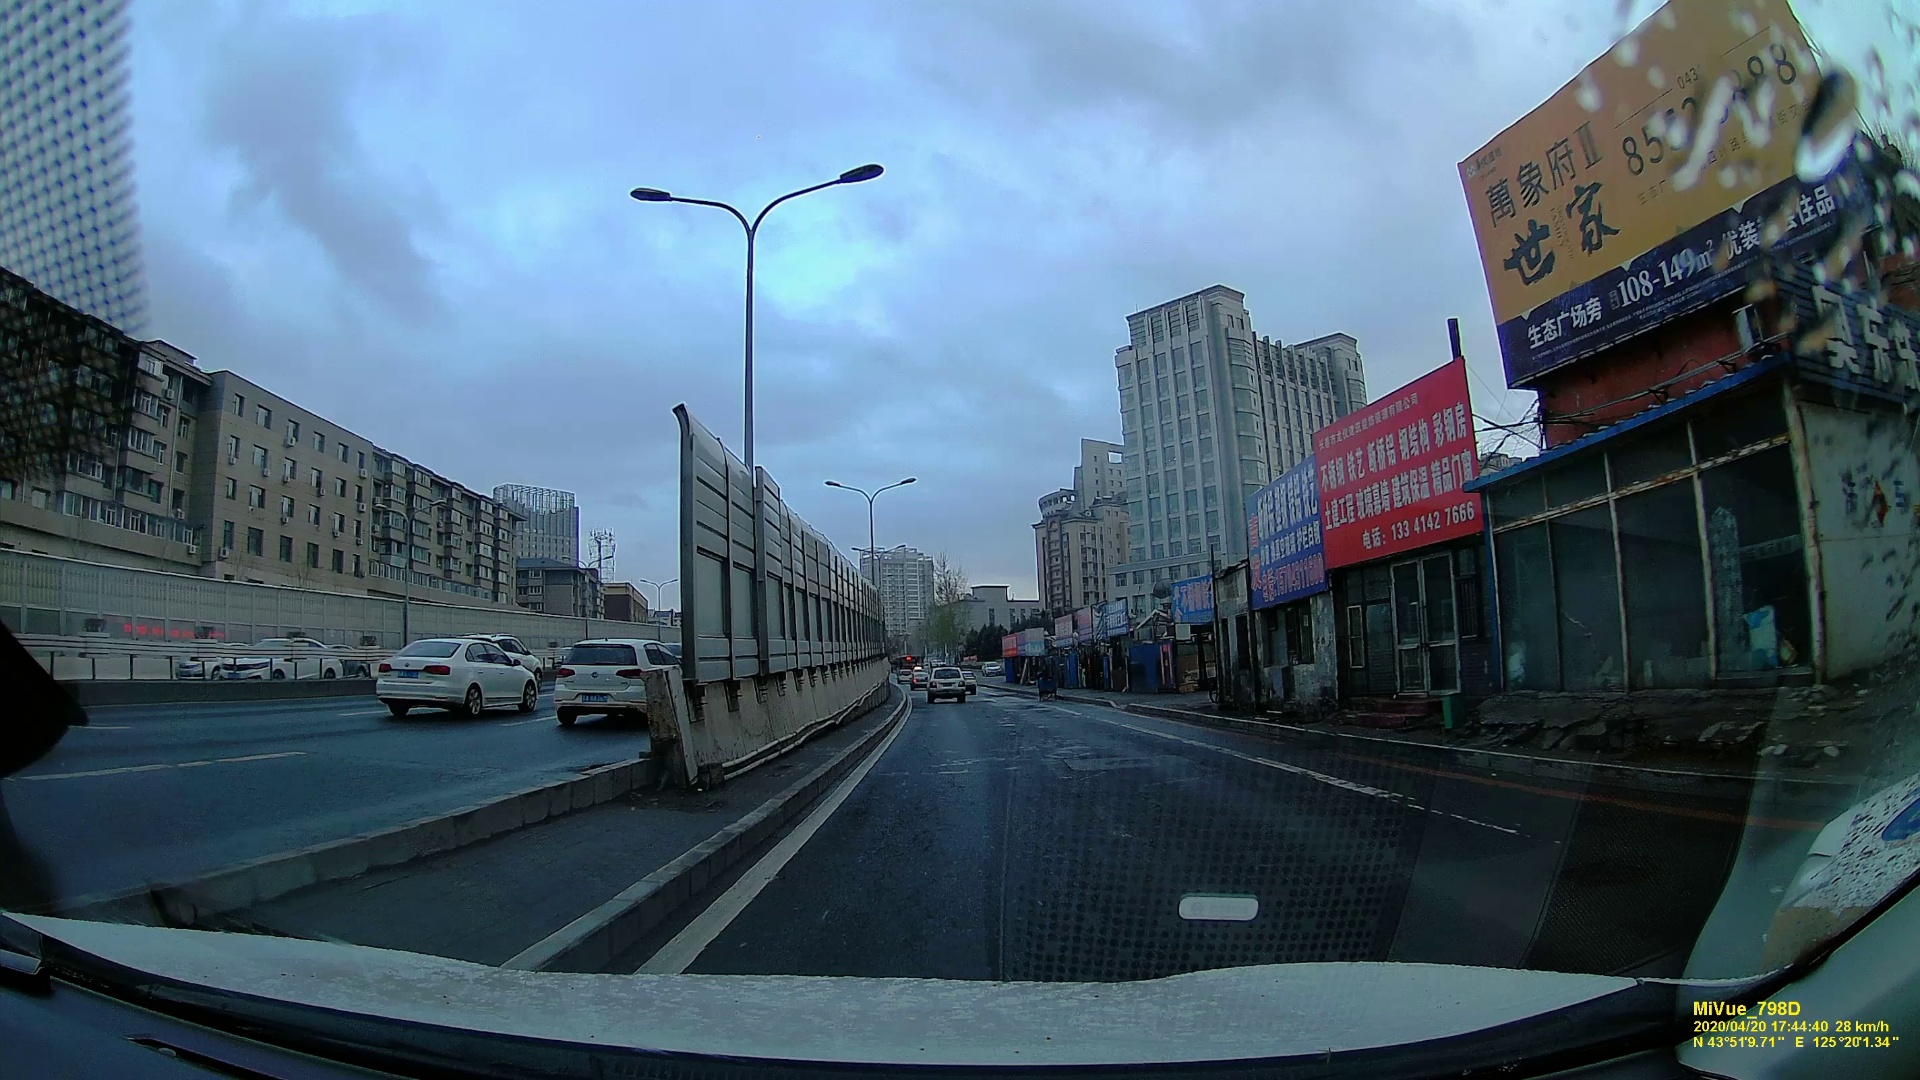vehicle: (375, 633, 541, 717), (545, 636, 679, 731), (926, 667, 965, 703)
